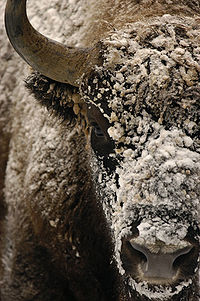zubr: (2, 1, 198, 301)
